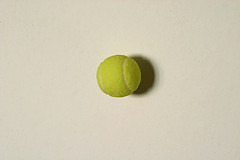tennis ball: (93, 52, 143, 100)
